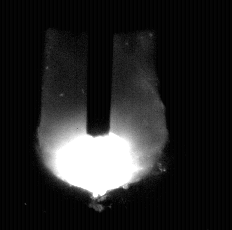arame: (87, 0, 112, 136)
poca: (38, 0, 168, 230)
